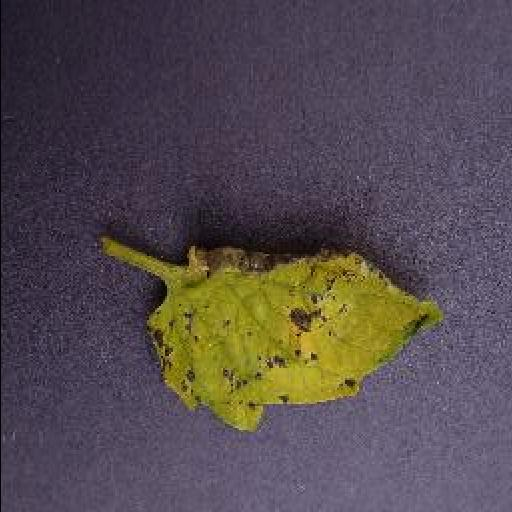disease_tomato: (146, 238, 446, 439)
